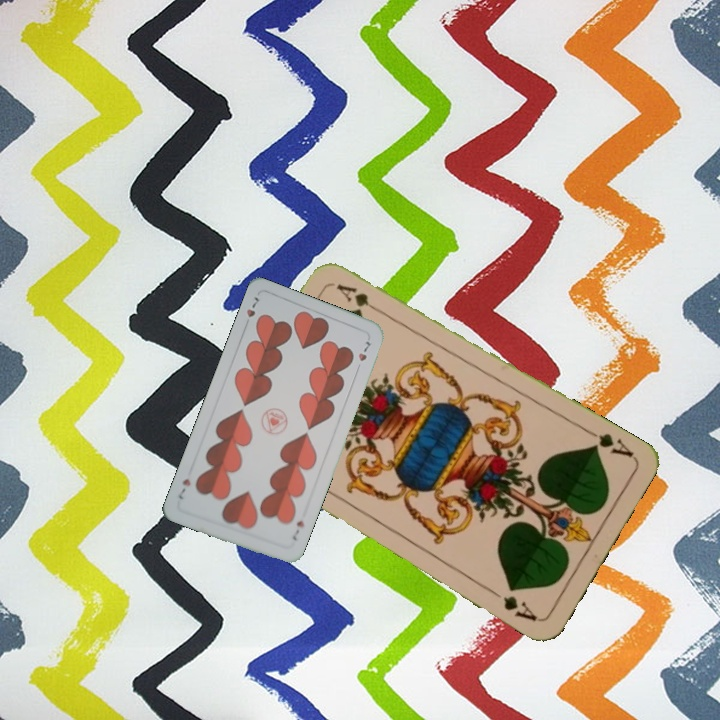GA: (582, 425, 636, 460)
H7: (242, 292, 261, 320), (288, 516, 307, 543)
